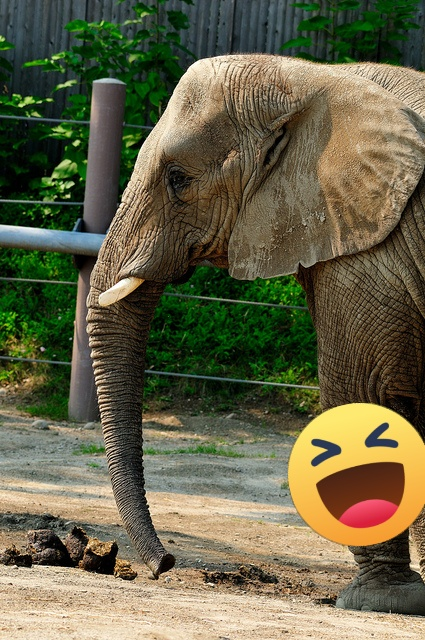haha: (288, 403, 425, 546)
